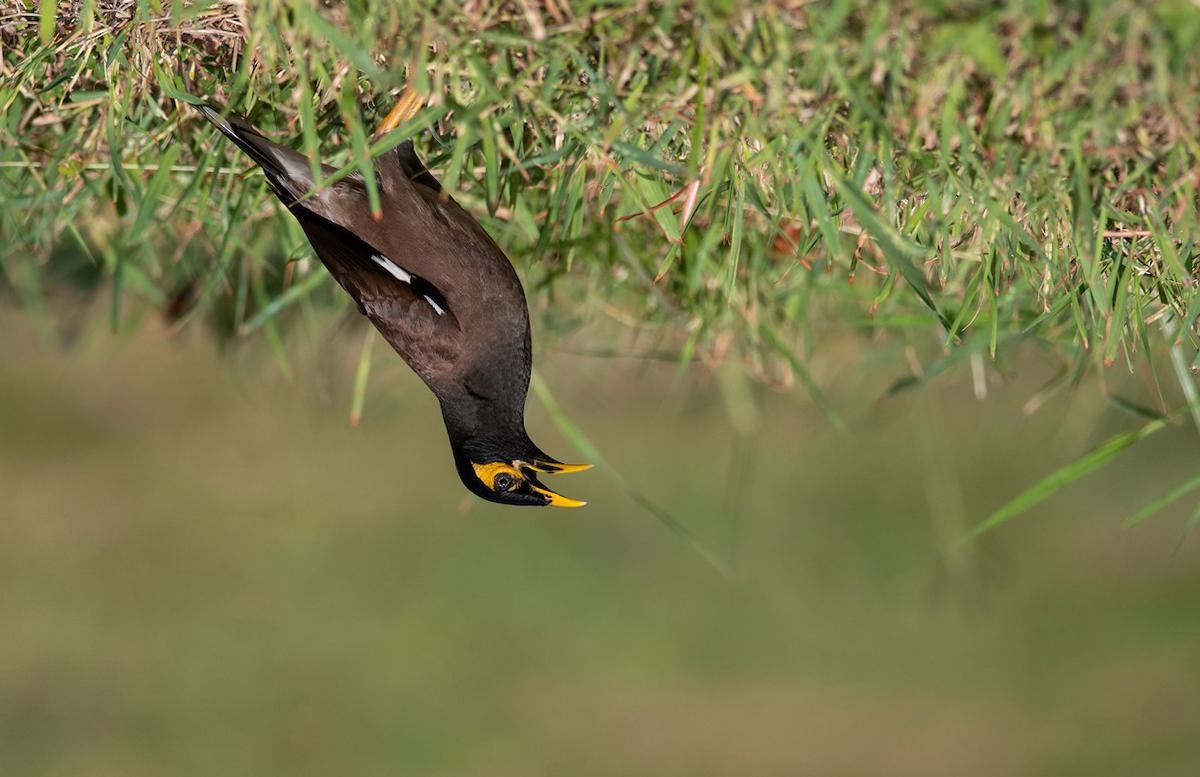myna: (260, 80, 611, 529)
